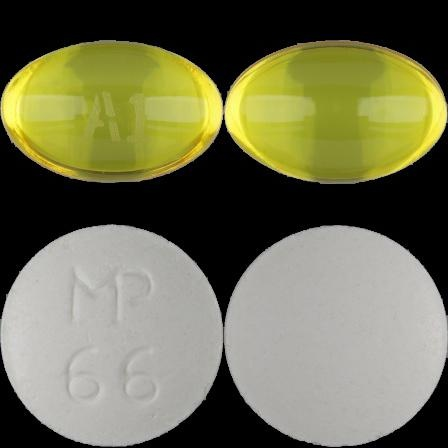68151-2697: (0, 0, 224, 224)
